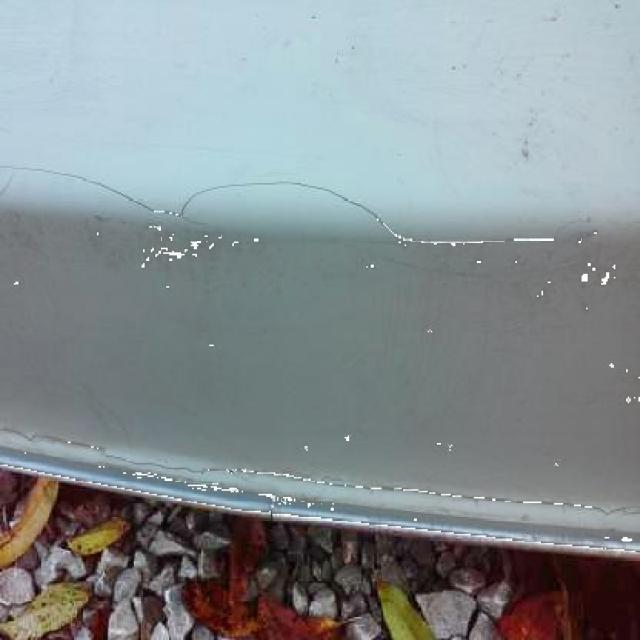crack: (3, 167, 183, 215), (184, 182, 377, 215), (4, 430, 104, 452), (107, 457, 229, 475)
